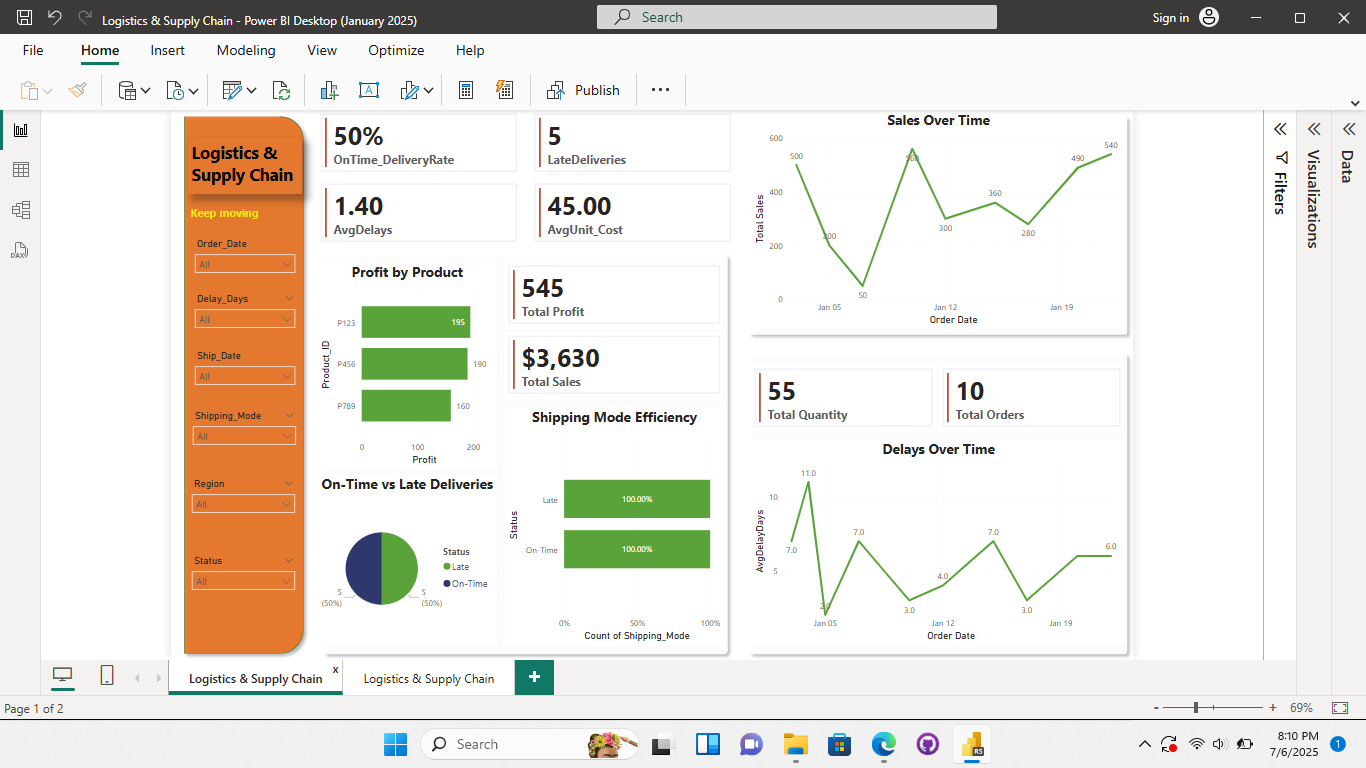

This screenshot's page, from the dashboard's own definition file:
{"tool":"powerbi","page":{"name":"Logistics & Supply Chain","canvas":[1400,800],"ordinal":0},"visuals":[{"type":"multiRowCard","fields":{"Values":["Sheet1.OnTime_DeliveryRate"]},"box":[212.8,0,295.5,97.6],"z":0,"group":"g1"},{"type":"shape","box":[9.6,0,192,800],"z":0},{"type":"multiRowCard","fields":{"Values":["Sheet1.LateDeliveries"]},"box":[523.7,0,295.5,97.6],"z":1000,"group":"g1"},{"type":"textbox","box":[24,40,166.4,81.6],"z":1000},{"type":"multiRowCard","fields":{"Values":["Sheet1.AvgDelays"]},"box":[212.8,102.4,295.5,97.6],"z":2000,"group":"g1"},{"type":"textbox","box":[23.9,134.1,226,34.9],"z":2000},{"type":"multiRowCard","fields":{"Values":["Sheet1.AvgUnit_Cost"]},"box":[523.7,102.4,295.5,97.6],"z":3000,"group":"g1"},{"type":"slicer","fields":{"Values":["Sheet1.Order_Date"]},"box":[24,182.4,166.4,75.2],"z":3000},{"type":"slicer","fields":{"Values":["Sheet1.Delay_Days"]},"box":[24,262.4,166.4,73.6],"z":4000},{"type":"slicer","fields":{"Values":["Sheet1.Ship_Date"]},"box":[24,344,166.4,76.8],"z":5000},{"type":"slicer","fields":{"Values":["Sheet1.Shipping_Mode"]},"box":[22.4,432,169.6,89.6],"z":6000},{"type":"shape","box":[212.8,200,606.4,600],"z":7000},{"type":"group","id":"g1","title":"Group 1","box":[212.8,0,606.4,200],"z":8000},{"type":"shape","box":[832,0,568,336],"z":9000},{"type":"shape","box":[832,344,568,456],"z":10000},{"type":"pieChart","title":"On-Time vs Late Deliveries","fields":{"Category":["Sheet1.Status"],"Y":["CountNonNull(Sheet1.Order_ID)"]},"box":[212.8,529.6,262.4,248],"z":11000},{"type":"lineChart","title":"Sales Over Time","fields":{"Category":["Sheet1.Order_Date.Variation.Date Hierarchy.Year"],"Y":["Sum(Sheet1.Sales)"]},"box":[843.2,0,545.6,318.4],"z":12000},{"type":"hundredPercentStackedBarChart","title":"Shipping Mode Efficiency","fields":{"Y":["CountNonNull(Sheet1.Shipping_Mode)"],"Category":["Sheet1.Status"]},"box":[486.4,432,318.4,345.6],"z":13000},{"type":"barChart","title":"Profit by Product","fields":{"Category":["Sheet1.Product_ID"],"Y":["Sum(Sheet1.Profit)"]},"box":[212.8,220.8,262.4,300.8],"z":14000},{"type":"lineChart","title":"Delays Over Time","fields":{"Y":["Sheet1.AvgDelayDays"],"Category":["Sheet1.Order_Date"]},"box":[843.2,478.4,545.6,299.2],"z":15000},{"type":"multiRowCard","fields":{"Values":["Sheet1.Total Orders"]},"box":[1116.8,371.2,268.8,97.6],"z":16000},{"type":"multiRowCard","fields":{"Values":["Sheet1.Total Quantity"]},"box":[843.2,371.2,268.8,97.6],"z":17000},{"type":"slicer","fields":{"Values":["Sheet1.Region"]},"box":[20.8,531.2,169.6,97.6],"z":18000},{"type":"slicer","fields":{"Values":["Sheet1.Status"]},"box":[20.8,643.2,169.6,84.8],"z":19000},{"type":"multiRowCard","fields":{"Values":["Sheet1.Total Profit"]},"box":[486.4,220.8,318.4,97.6],"z":20000},{"type":"multiRowCard","fields":{"Values":["Sheet1.Total Sales"]},"box":[486.4,323.2,318.4,97.6],"z":21000}]}

Visuals, with their boxes on the page's 1400x800 design canvas (x1, y1, x2, y2). These are canvas units, not pixel positions in the 1366x768 screenshot, which may show the page scaled, cropped or inside an application window:
multiRowCard - Sheet1.OnTime_DeliveryRate: 213 0 508 98
shape: 10 0 202 800
multiRowCard - Sheet1.LateDeliveries: 524 0 819 98
textbox: 24 40 190 122
multiRowCard - Sheet1.AvgDelays: 213 102 508 200
textbox: 24 134 250 169
multiRowCard - Sheet1.AvgUnit_Cost: 524 102 819 200
slicer - Sheet1.Order_Date: 24 182 190 258
slicer - Sheet1.Delay_Days: 24 262 190 336
slicer - Sheet1.Ship_Date: 24 344 190 421
slicer - Sheet1.Shipping_Mode: 22 432 192 522
shape: 213 200 819 800
"Group 1" group: 213 0 819 200
shape: 832 0 1400 336
shape: 832 344 1400 800
"On-Time vs Late Deliveries" pieChart: 213 530 475 778
"Sales Over Time" lineChart: 843 0 1389 318
"Shipping Mode Efficiency" hundredPercentStackedBarChart: 486 432 805 778
"Profit by Product" barChart: 213 221 475 522
"Delays Over Time" lineChart: 843 478 1389 778
multiRowCard - Sheet1.Total Orders: 1117 371 1386 469
multiRowCard - Sheet1.Total Quantity: 843 371 1112 469
slicer - Sheet1.Region: 21 531 190 629
slicer - Sheet1.Status: 21 643 190 728
multiRowCard - Sheet1.Total Profit: 486 221 805 318
multiRowCard - Sheet1.Total Sales: 486 323 805 421
